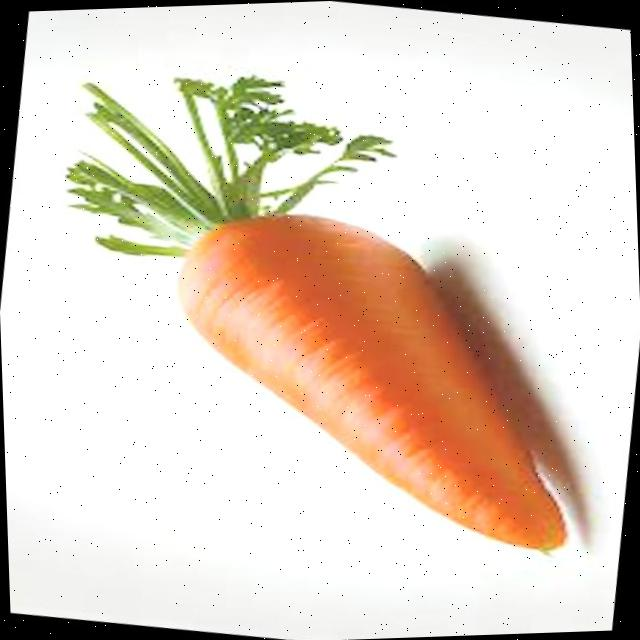carrot: (66, 75, 564, 550)
